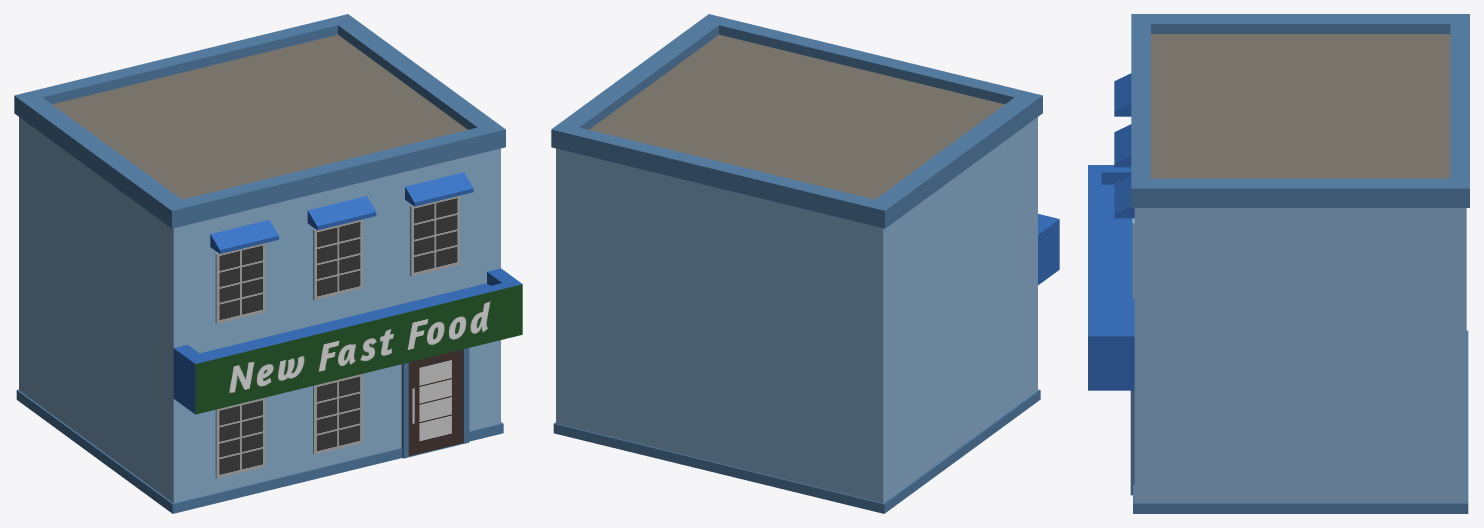
Rendered from building-fast-food.glb.
3 renders of one model, left to right at view 1: azimuth 30°, elevation 25°; view 2: azimuth 150°, elevation 25°; view 3: azimuth 270°, elevation 25°, orthographic. The views are drawn at different scales.
Parts seen in each view (by area): view 1: model; view 2: model; view 3: model.
Boxes of the visible parts, box(x1,y1,x2,y2) form: model: box(14, 14, 522, 513); model: box(551, 14, 1059, 513); model: box(1088, 14, 1469, 513).
Size of the model in its own units: 11.22 by 9.76 by 10.35.
Materials: 1 (1 with a texture image).
